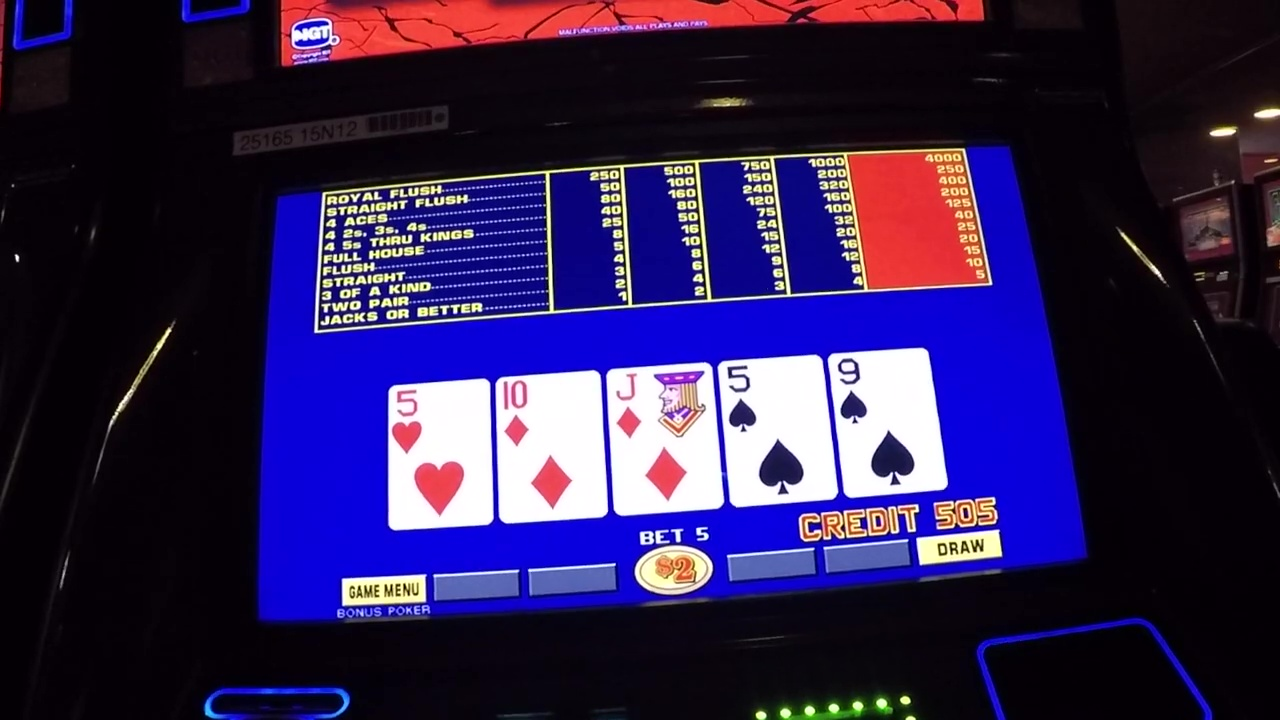DJ: (610, 368, 712, 440)
DT: (498, 376, 600, 450)
H5: (391, 387, 490, 456)
S5: (724, 364, 823, 432)
S9: (838, 355, 929, 429)
